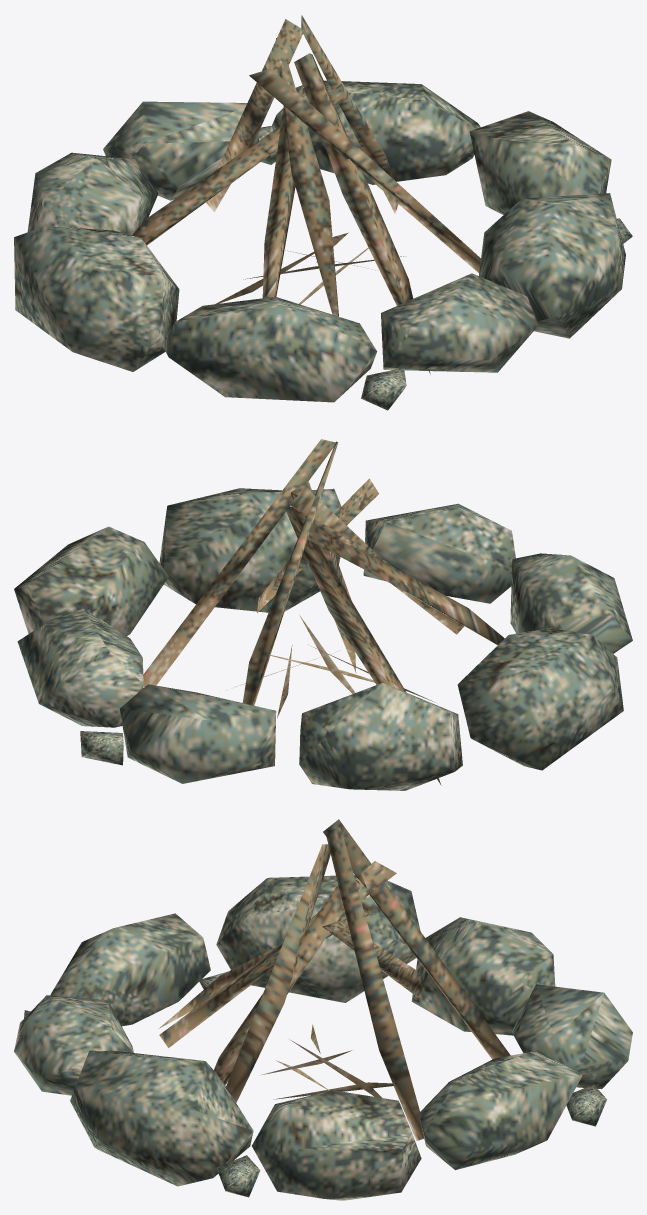
The model's file is foguera.fbx.
3 renders of one model, top to bottom at view 1: azimuth 30°, elevation 25°; view 2: azimuth 150°, elevation 25°; view 3: azimuth 270°, elevation 25°, orthographic. The views are drawn at different scales.
Visible parts, largest first — view 1: Koster_low; view 2: Koster_low; view 3: Koster_low.
Boxes of the visible parts, x1=… form: Koster_low: x1=14, y1=15, x2=632, y2=410; Koster_low: x1=14, y1=439, x2=632, y2=790; Koster_low: x1=14, y1=819, x2=632, y2=1200.
Size of the model in its own units: 1.33 by 1.31 by 0.6996.
Materials: 1 (1 with a texture image).
